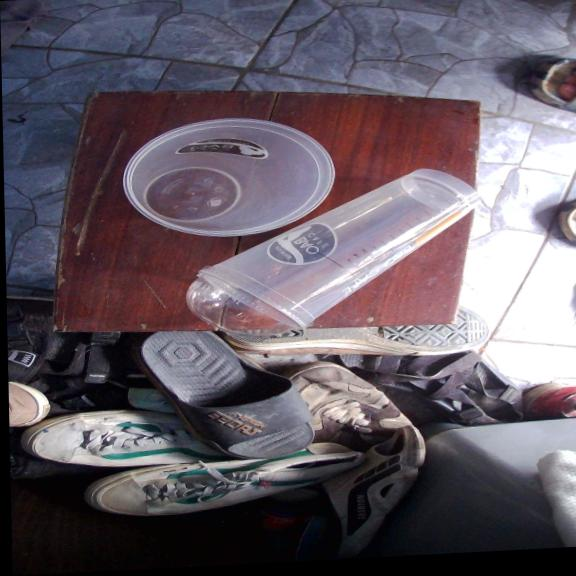Plastik: (187, 168, 478, 334)
